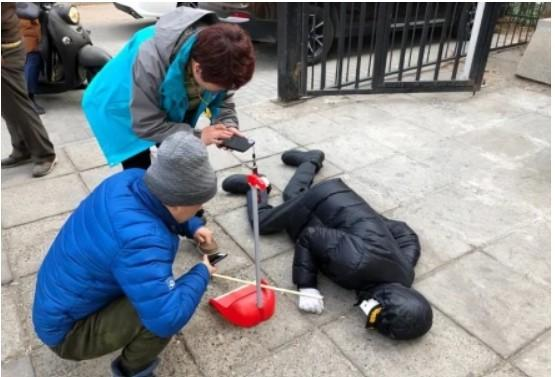bending: (25, 135, 221, 377), (79, 2, 251, 169)
down: (240, 144, 440, 350)
up: (1, 1, 64, 186)
